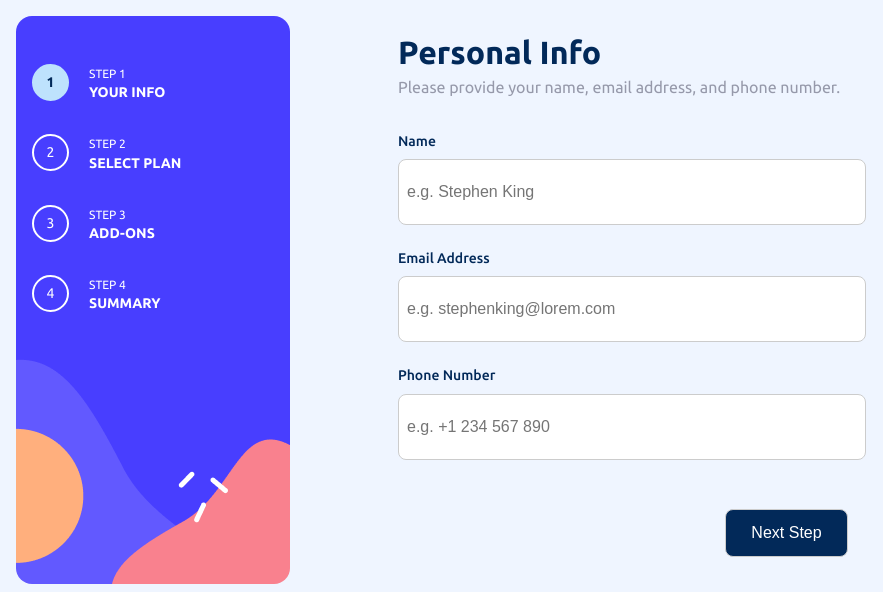
it: Step 2 › renders correct heading for step 2
The width and height of the screenshot is (883, 592).
Type "Jamaria Sims" into the field with placeholder "e.g. Stephen King" at (632, 192), box [398,159,866,225]
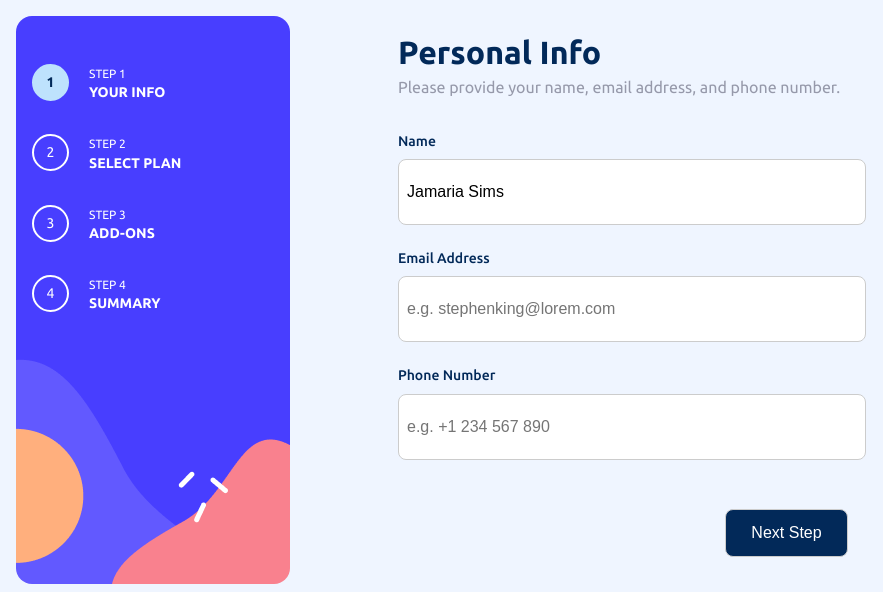
Type "JamariaxSims@gmail.com" into the field with placeholder "e.g. stephenking@lorem.com" at (632, 309), box [398,276,866,342]
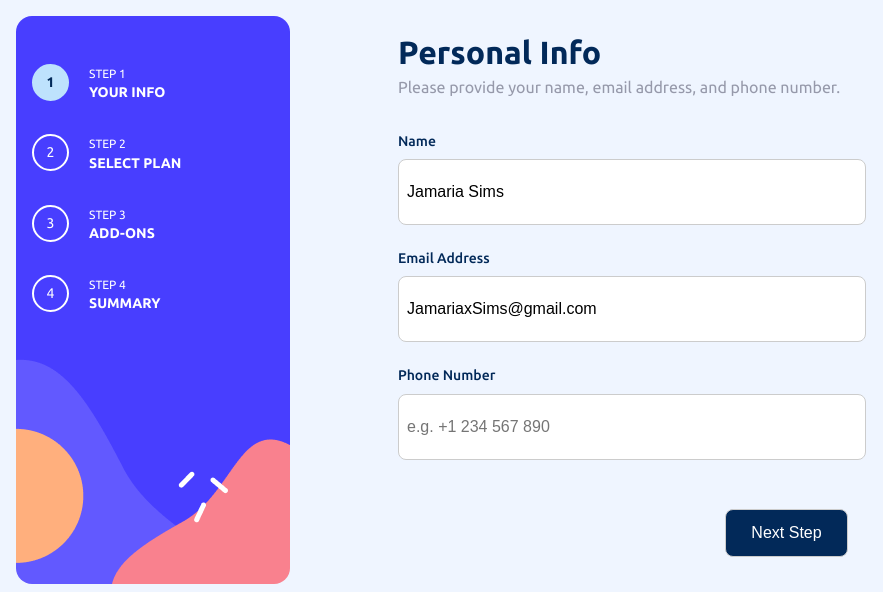
Type "1234567890" into the field with placeholder "e.g. +1 234 567 890" at (632, 427), box [398,394,866,460]
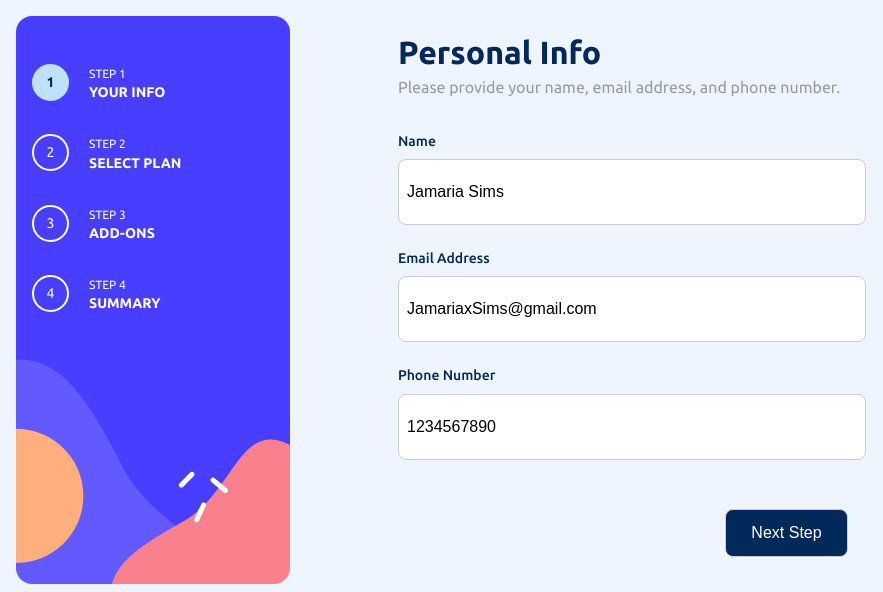
Click the button "Next Step" at (786, 533), box [725,509,848,557]
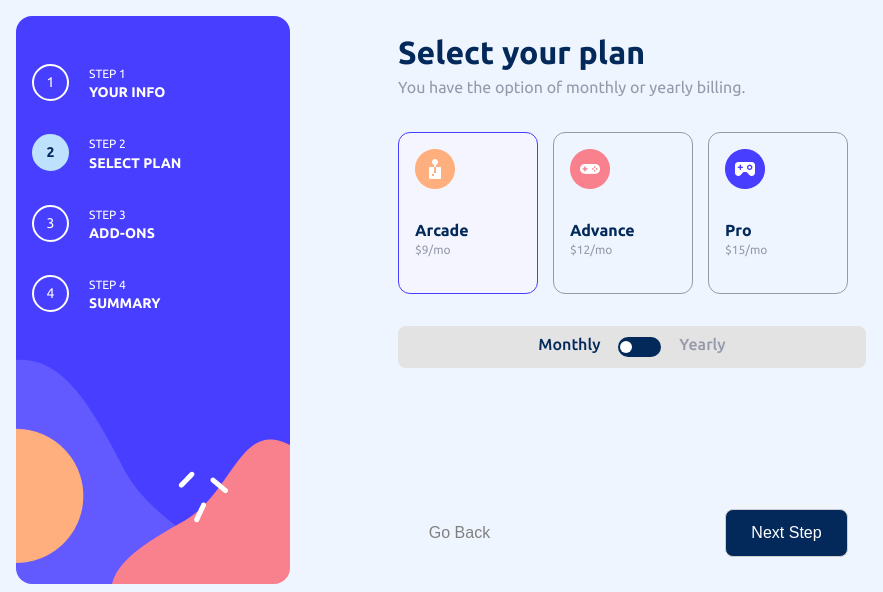
Expected: the heading "Select your plan" is shown, [398,34,645,70]
